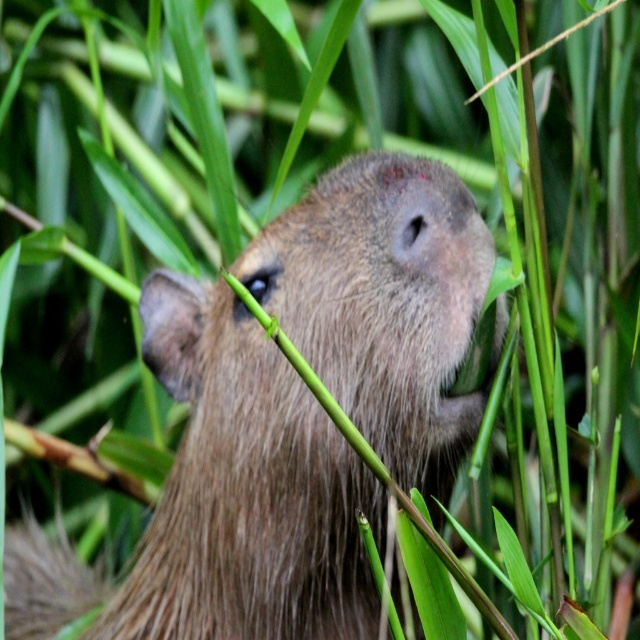Otter: (4, 124, 526, 640)
